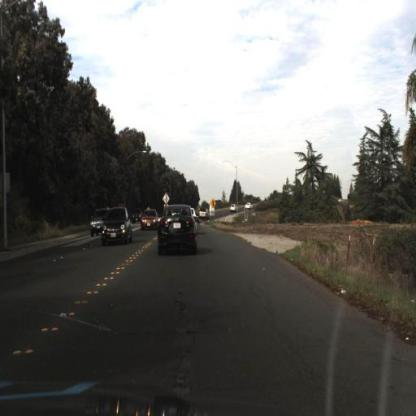car: (155, 206, 197, 259), (98, 206, 135, 250), (139, 207, 160, 234), (139, 207, 160, 232), (197, 204, 213, 225)
